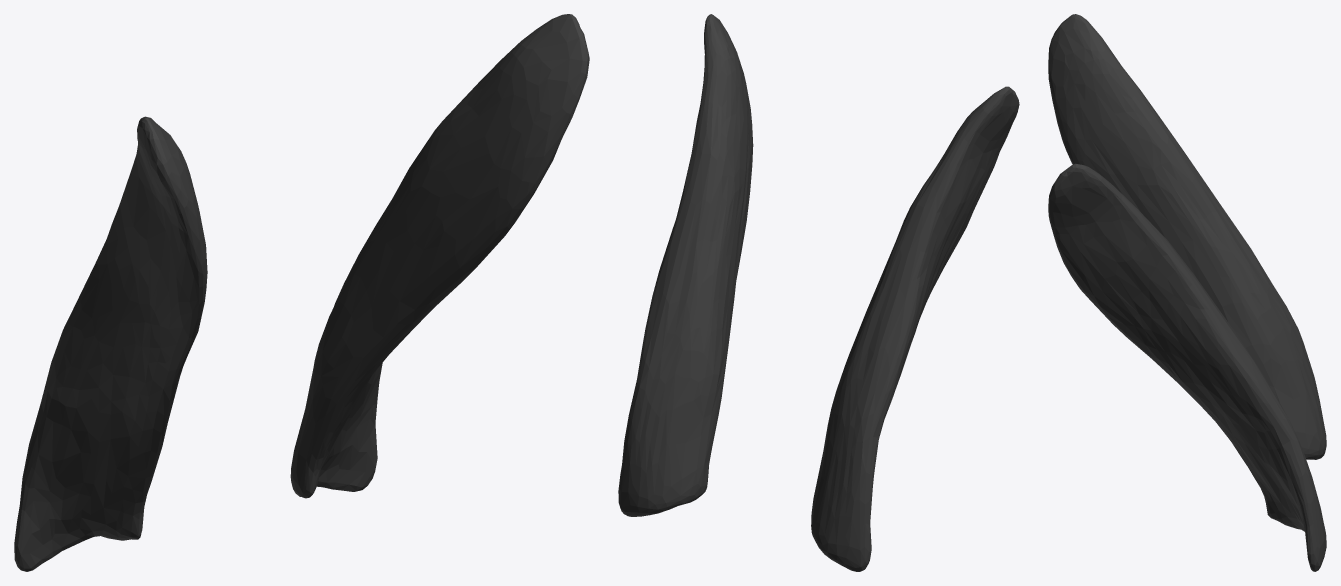
Rendered from m_semimembranosus_cran.glb.
3 renders of one model, left to right at view 1: azimuth 30°, elevation 25°; view 2: azimuth 150°, elevation 25°; view 3: azimuth 270°, elevation 25°, orthographic. The views are drawn at different scales.
Parts seen in each view (by area): view 1: m_semimembranosus_cran; view 2: m_semimembranosus_cran; view 3: m_semimembranosus_cran.
Part boxes in pixels (<box>): m_semimembranosus_cran: <box>14,14,589,571</box>; m_semimembranosus_cran: <box>618,14,1019,571</box>; m_semimembranosus_cran: <box>1048,14,1326,571</box>.
Size of the model in its own units: 0.0037 by 0.00477 by 0.00284.
Materials: 1 (1 with a texture image).
